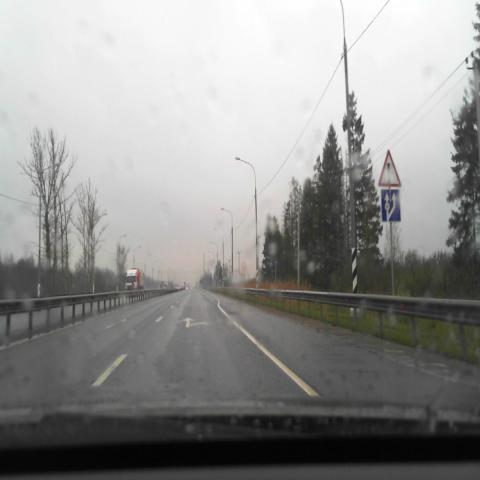2_3_2: (378, 149, 401, 187)
